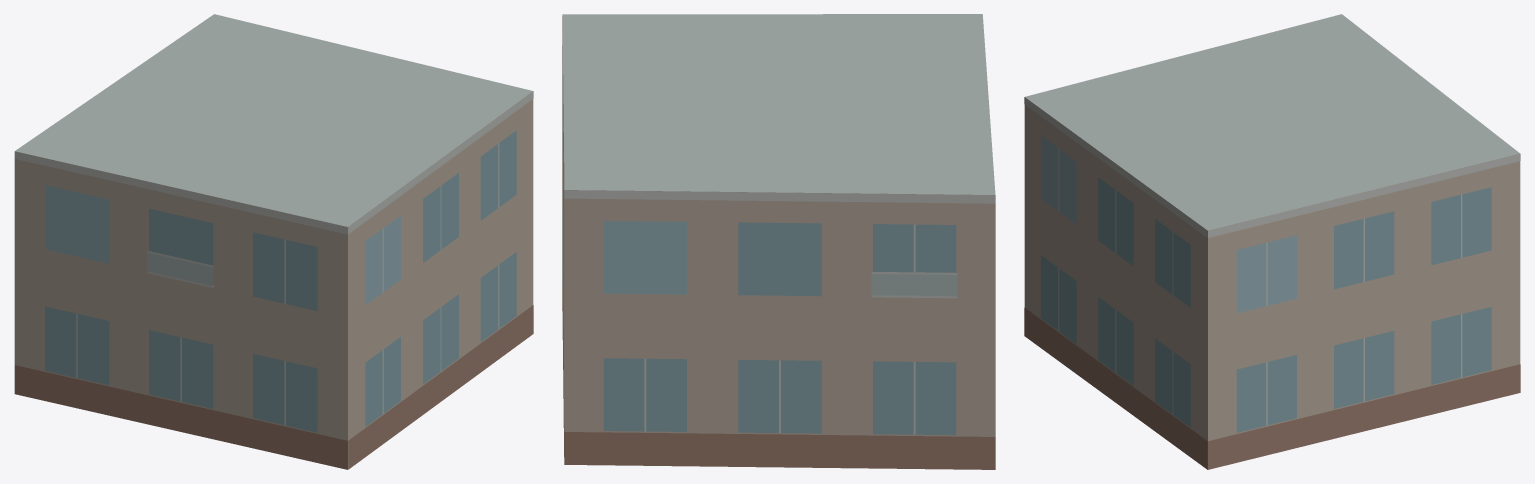
Rendered from survey-upis-32500354.glb.
3 renders of one model, left to right at view 1: azimuth 30°, elevation 25°; view 2: azimuth 150°, elevation 25°; view 3: azimuth 270°, elevation 25°, orthographic. The views are drawn at different scales.
Visible parts, largest first — view 1: survey-upis-32500354.tmp; view 2: survey-upis-32500354.tmp; view 3: survey-upis-32500354.tmp.
Part boxes in pixels (left/top/right/bottom): survey-upis-32500354.tmp: left=14, top=14, right=533, bottom=469; survey-upis-32500354.tmp: left=562, top=14, right=995, bottom=469; survey-upis-32500354.tmp: left=1024, top=14, right=1520, bottom=469.
Size of the model in its own units: 15.16 by 7.8 by 14.66.
